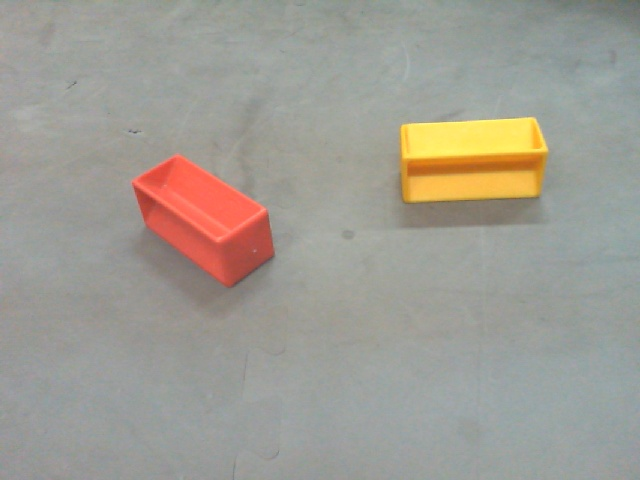RedSample: (131, 151, 277, 285)
YellowSample: (400, 113, 548, 204)
